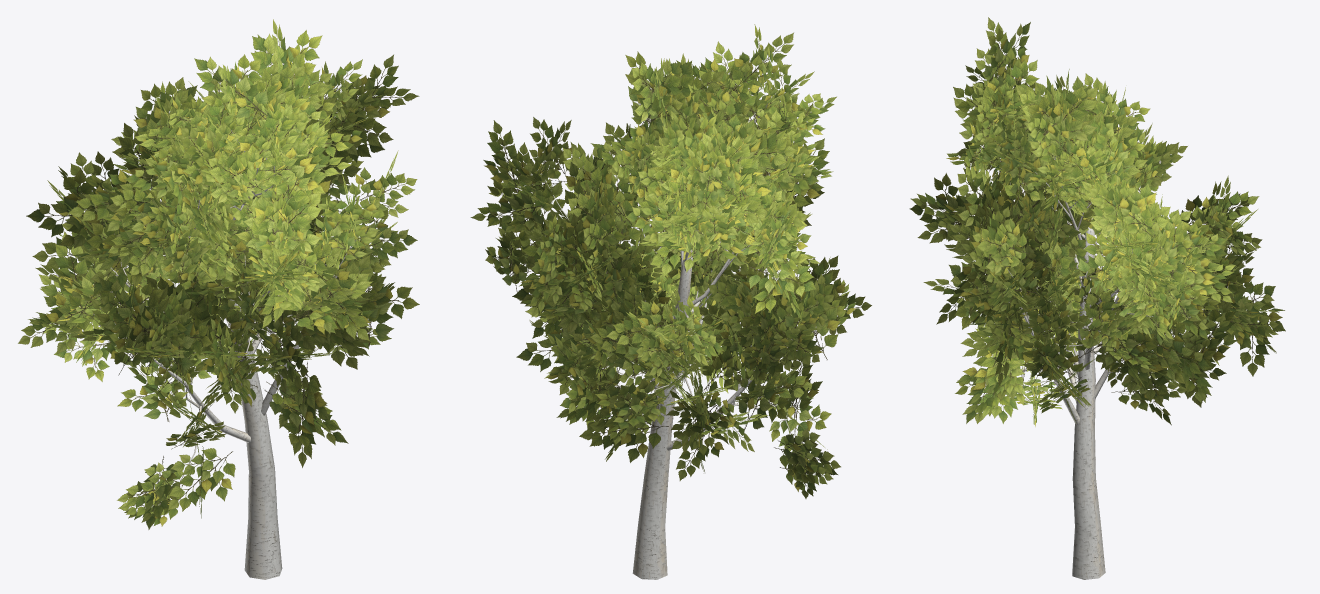
File: nature-white-silver-birch_v4.glb
The picture shows the model from 3 angles, left to right: view 1: azimuth 30°, elevation 25°; view 2: azimuth 150°, elevation 25°; view 3: azimuth 270°, elevation 25°; orthographic projection. The views are drawn at different scales.
Parts seen in each view (by area): view 1: nature-white-silver-birch; view 2: nature-white-silver-birch; view 3: nature-white-silver-birch.
Boxes of the visible parts, x1,y1,x2,y2 form: nature-white-silver-birch: (18,19,419,579); nature-white-silver-birch: (470,24,871,579); nature-white-silver-birch: (909,17,1285,579).
Bounding box in the file's own units: 6.04 × 9.05 × 6.33.
2 materials, 2 textured.
